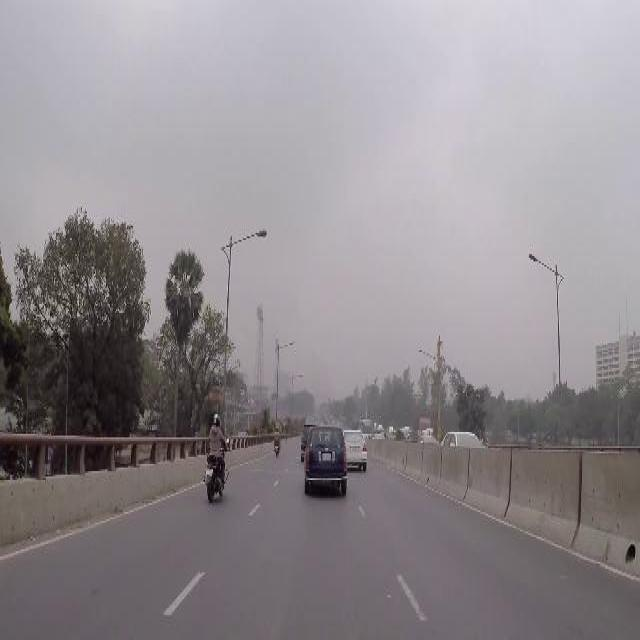bus: (359, 417, 373, 436)
car: (303, 425, 347, 492), (344, 429, 368, 467), (440, 428, 482, 446), (418, 436, 437, 442), (372, 432, 383, 439)
motorbike: (203, 440, 231, 499), (271, 427, 281, 455)
